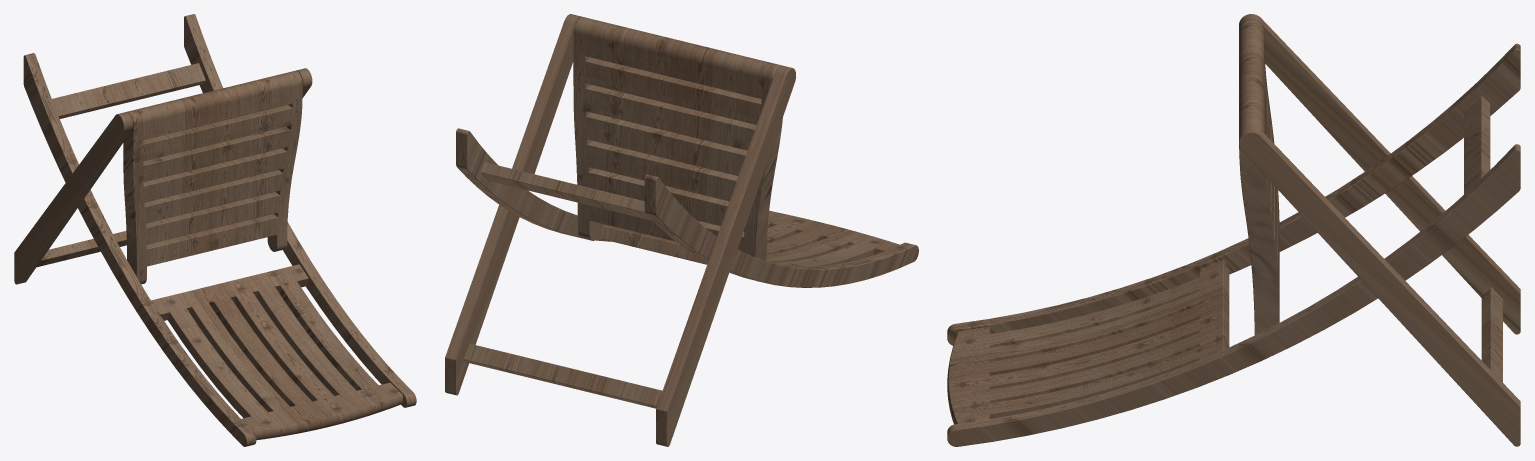
Rendered from chair.obj.
The picture shows the model from 3 angles, left to right: view 1: azimuth 30°, elevation 25°; view 2: azimuth 150°, elevation 25°; view 3: azimuth 270°, elevation 25°; orthographic projection. The views are drawn at different scales.
Visible parts, largest first — view 1: default_1_2; view 2: default_1_2; view 3: default_1_2.
Part boxes in pixels (left/top/right/bottom): default_1_2: left=14, top=14, right=416, bottom=446; default_1_2: left=445, top=14, right=918, bottom=446; default_1_2: left=947, top=14, right=1520, bottom=446.
Size of the model in its own units: 0.7991 by 1.01 by 1.64.
1 material, 1 textured.
